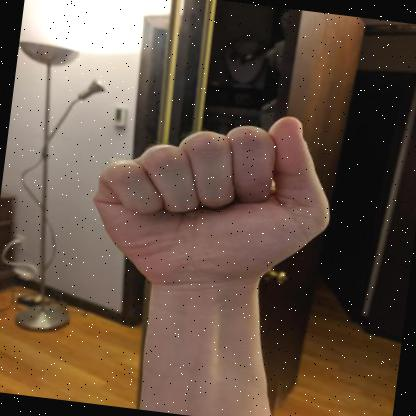A: (95, 116, 329, 300)
